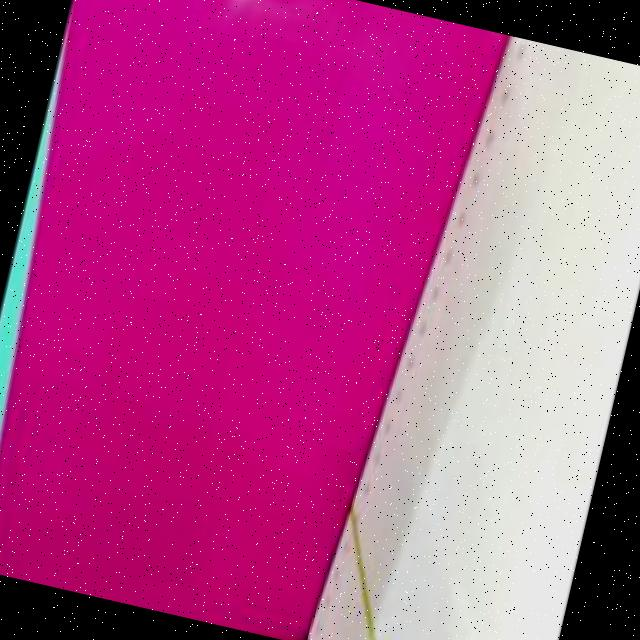xparking: (0, 0, 505, 640)
